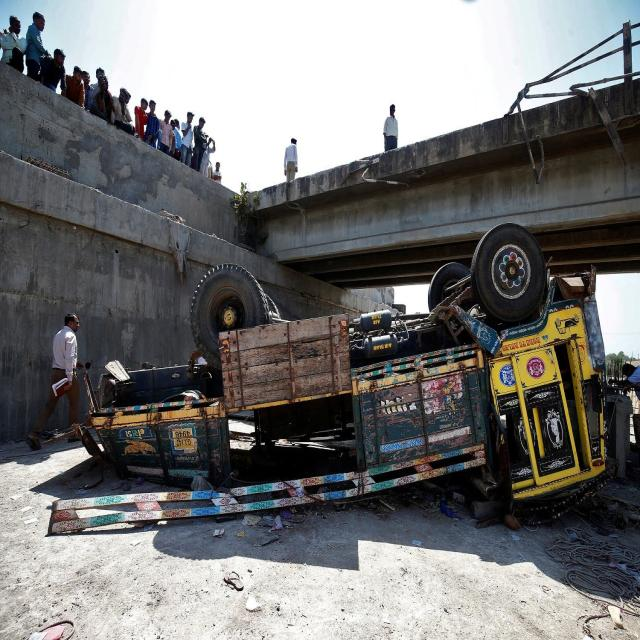accident: (49, 224, 608, 533)
